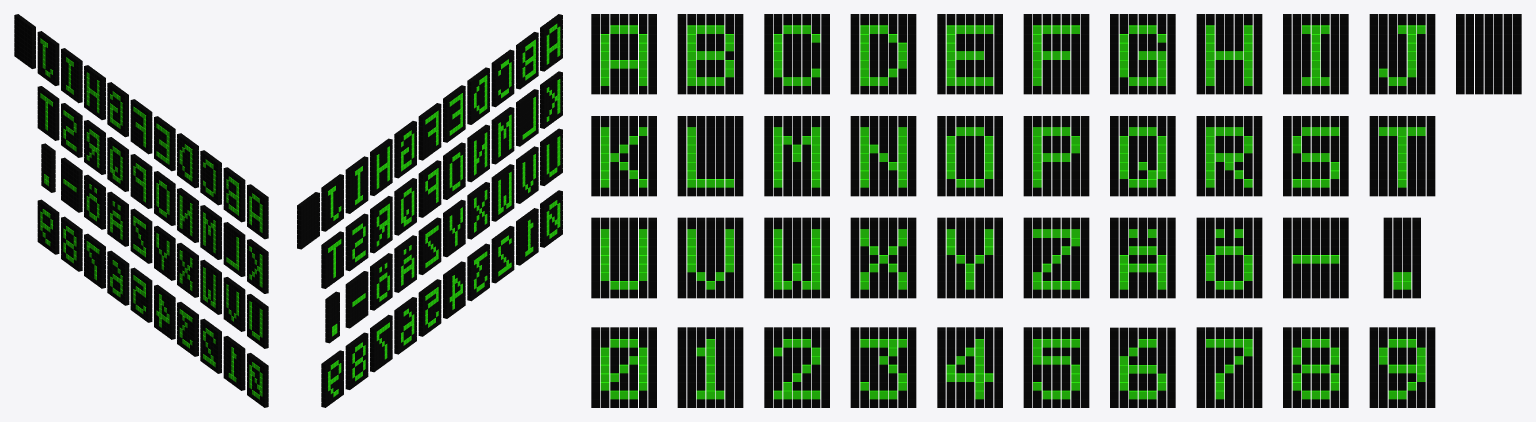
File: lcd_letters.glb
The picture shows the model from 3 angles, left to right: view 1: azimuth 30°, elevation 25°; view 2: azimuth 150°, elevation 25°; view 3: azimuth 270°, elevation 25°; orthographic projection. The views are drawn at different scales.
Visible parts, largest first — view 1: viiva.002, B, F, J, P, T, L, V, R, N, viiva.005, viiva.004 (+32 smaller); view 2: viiva.002, viiva, F, S, M, P, viiva.006, C, I, viiva.007, viiva.004, Y (+33 smaller); view 3: viiva.005, viiva.002, object 6, V, D, B, F, J, R, P, H, N (+39 smaller).
Part boxes in pixels (<box>): viiva.002: <box>130,208,152,263</box>; B: <box>223,167,245,222</box>; F: <box>130,99,152,154</box>; J: <box>37,31,59,85</box>; P: <box>130,154,152,208</box>; T: <box>37,86,59,140</box>; L: <box>223,222,245,276</box>; V: <box>223,277,245,331</box>; R: <box>84,120,105,174</box>; N: <box>177,188,198,242</box>; viiva.005: <box>177,243,198,297</box>; viiva.004: <box>107,137,128,191</box>; viiva.002: <box>418,217,441,274</box>; viiva: <box>345,271,368,328</box>; F: <box>418,103,441,160</box>; S: <box>345,213,368,271</box>; M: <box>491,107,514,164</box>; P: <box>418,160,441,217</box>; viiva.006: <box>491,164,514,221</box>; C: <box>491,49,514,107</box>; I: <box>345,156,368,213</box>; viiva.007: <box>297,192,319,249</box>; viiva.004: <box>394,178,416,235</box>; Y: <box>443,199,465,257</box>; viiva.005: <box>850,217,916,298</box>; viiva.002: <box>1023,217,1089,298</box>; object 6: <box>1196,217,1262,298</box>; V: <box>677,217,743,298</box>; D: <box>850,14,916,94</box>; B: <box>677,14,743,94</box>; F: <box>1023,14,1089,94</box>; J: <box>1369,14,1435,94</box>; R: <box>1196,116,1262,196</box>; P: <box>1023,116,1089,196</box>; H: <box>1196,14,1262,94</box>; N: <box>850,116,916,196</box>.
Bounding box in the file's own units: 10.2 × 498 × 1076.
